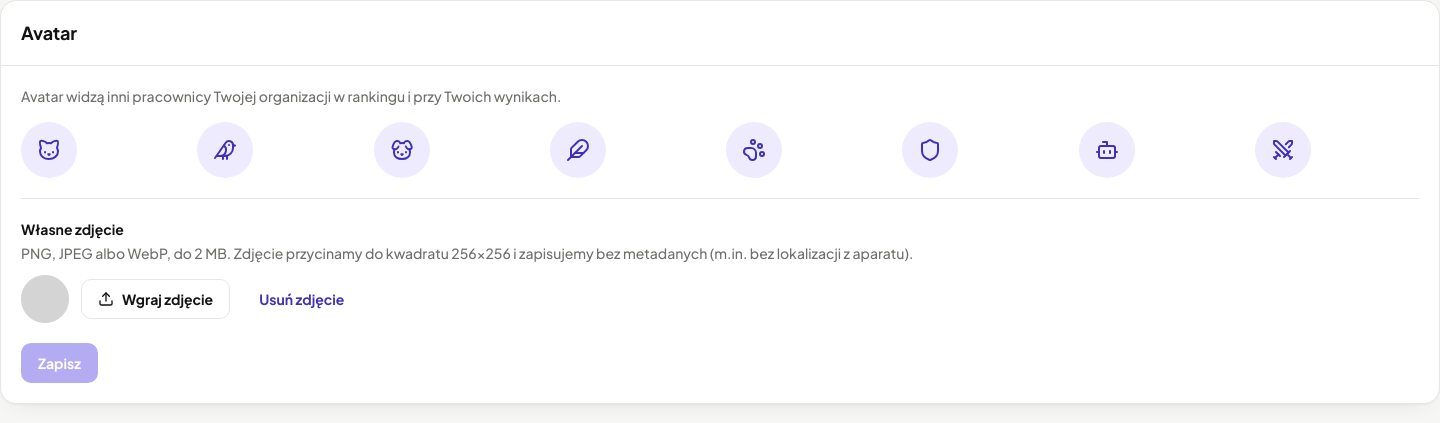
Scenario: AvatarSettings (ustawienia konta) › własne zdjęcie › usunięcie zdjęcia woła DELETE, czyści avatar i chowa przycisk usuwania
This screenshot has width=1440, height=423.
Click the button "Usuń zdjęcie": (302, 299) [242,279,361,319]
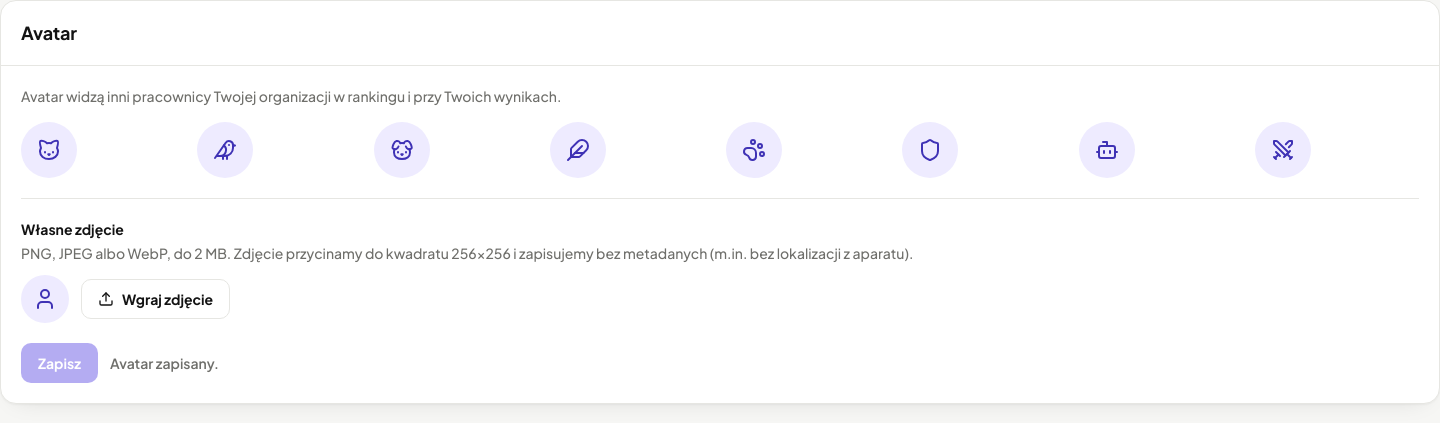
Expected: the message reads "Avatar zapisany.", [110,354,219,372]
Expected: the button "Usuń zdjęcie" is gone
